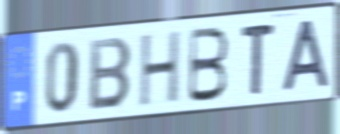0: (43, 39, 81, 118)
A: (280, 17, 332, 95)
B: (87, 36, 135, 114), (185, 25, 231, 106)
H: (137, 28, 183, 111)
T: (239, 21, 277, 98)
